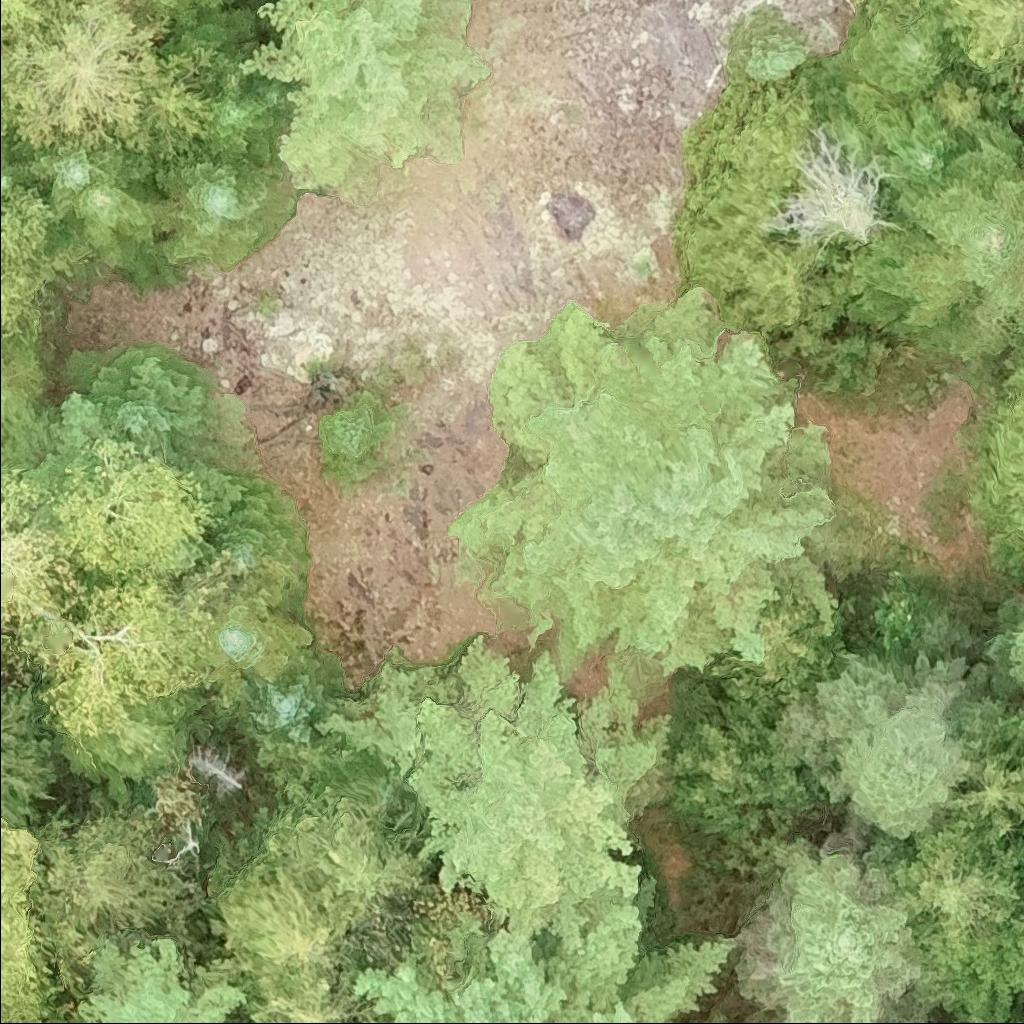crown: (450, 281, 878, 711), (315, 633, 678, 956), (235, 0, 494, 203), (345, 901, 745, 1023), (779, 654, 1007, 838), (852, 142, 1023, 356), (731, 837, 920, 1023), (678, 81, 813, 314), (18, 575, 199, 738), (26, 794, 196, 965), (884, 807, 1023, 1005), (0, 0, 174, 154), (250, 772, 424, 924), (830, 82, 1023, 196), (53, 433, 205, 576), (203, 848, 362, 983), (62, 340, 222, 471), (73, 928, 251, 1023), (154, 152, 294, 271), (193, 578, 320, 704), (0, 473, 88, 634), (6, 137, 167, 216), (60, 183, 184, 283), (227, 647, 344, 749), (724, 241, 852, 334), (0, 816, 57, 1023), (0, 390, 113, 491), (0, 183, 65, 345), (204, 475, 310, 568), (144, 47, 221, 167), (848, 7, 955, 92), (0, 682, 59, 825), (240, 960, 372, 1023), (956, 711, 1023, 834), (985, 374, 1023, 576), (200, 89, 281, 171), (940, 0, 1023, 79), (318, 393, 394, 476), (0, 336, 52, 443), (158, 6, 258, 59), (981, 593, 1023, 706), (123, 0, 229, 30), (0, 0, 60, 46), (696, 1008, 730, 1023), (0, 119, 12, 147), (44, 1017, 85, 1023)
